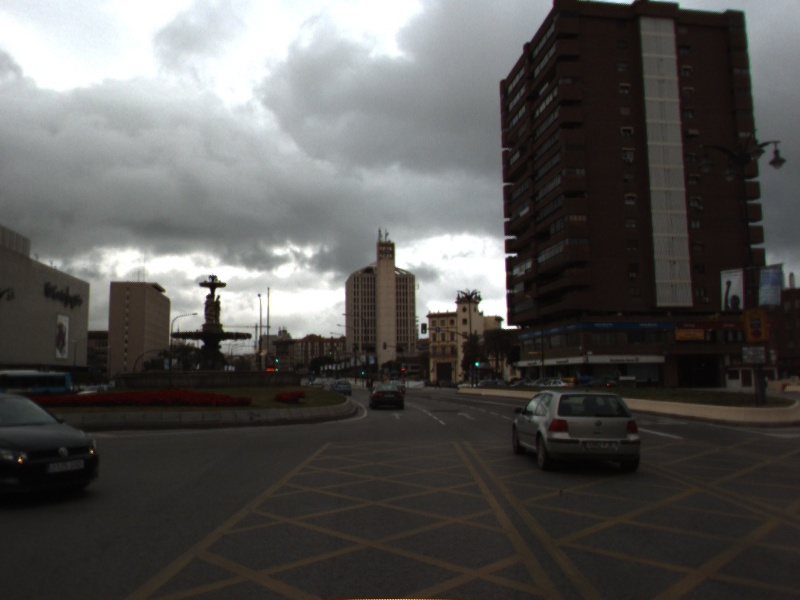STRAIGHT: (454, 409, 479, 423), (388, 409, 406, 422)
